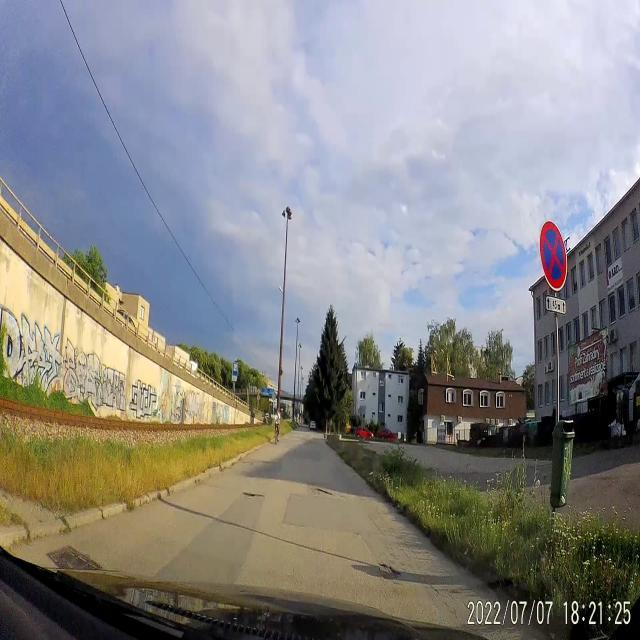Manhole: (44, 536, 103, 575), (374, 548, 400, 580), (309, 481, 332, 503), (236, 487, 266, 499)
